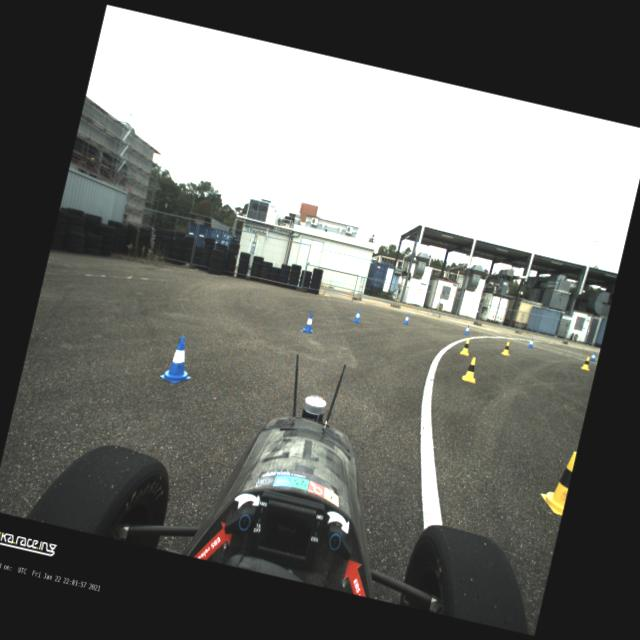blue_cone: (158, 334, 200, 386), (300, 311, 317, 334), (352, 308, 362, 323), (402, 313, 410, 325), (526, 338, 534, 348), (463, 324, 470, 334), (590, 352, 596, 362)
yellow_cone: (537, 446, 576, 515), (461, 356, 480, 382), (459, 338, 472, 356), (500, 340, 512, 355), (580, 356, 591, 370)
